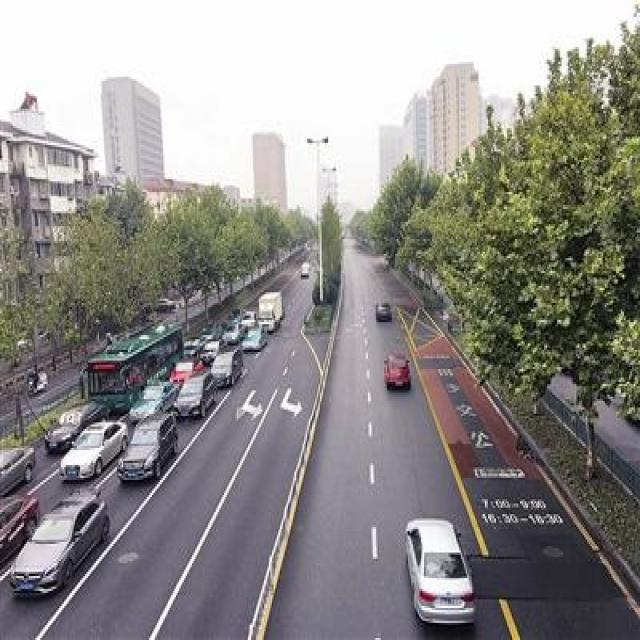point: (285, 176, 394, 287)
